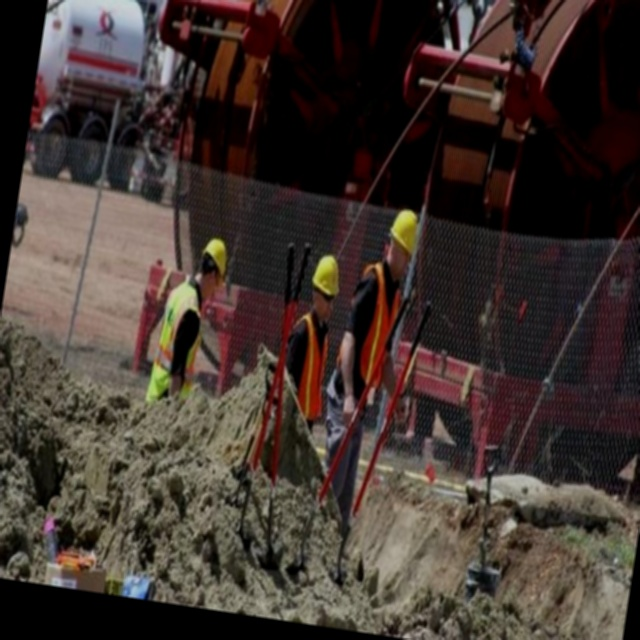Con_Casco: (193, 230, 232, 301), (383, 205, 421, 274), (308, 251, 344, 318)
Con_Chaleco: (333, 264, 408, 411), (147, 290, 211, 404), (277, 315, 334, 421)
